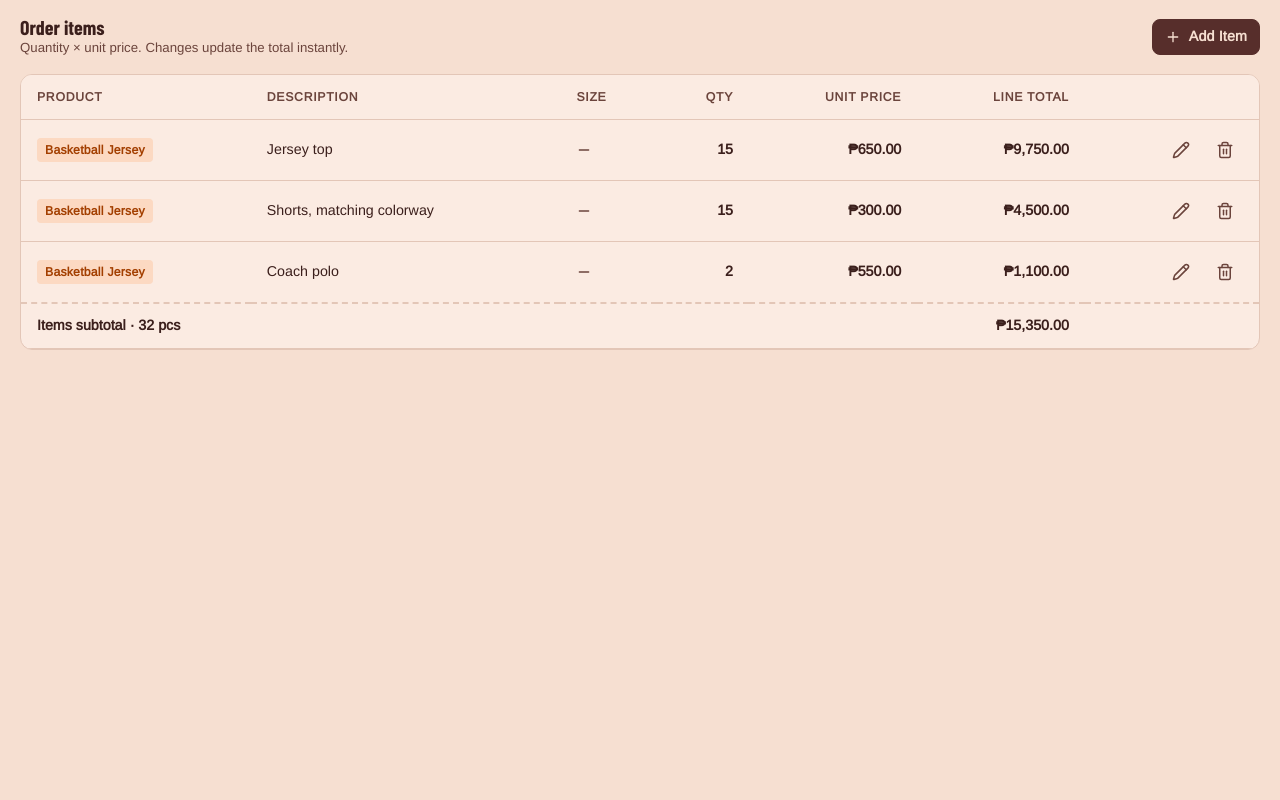
Scenario: Edit Item › puts focus back on the row Edit after Discard Changes too
Click the button named "Edit item 3, Coach polo": (1181, 272) [1163,254,1199,290]
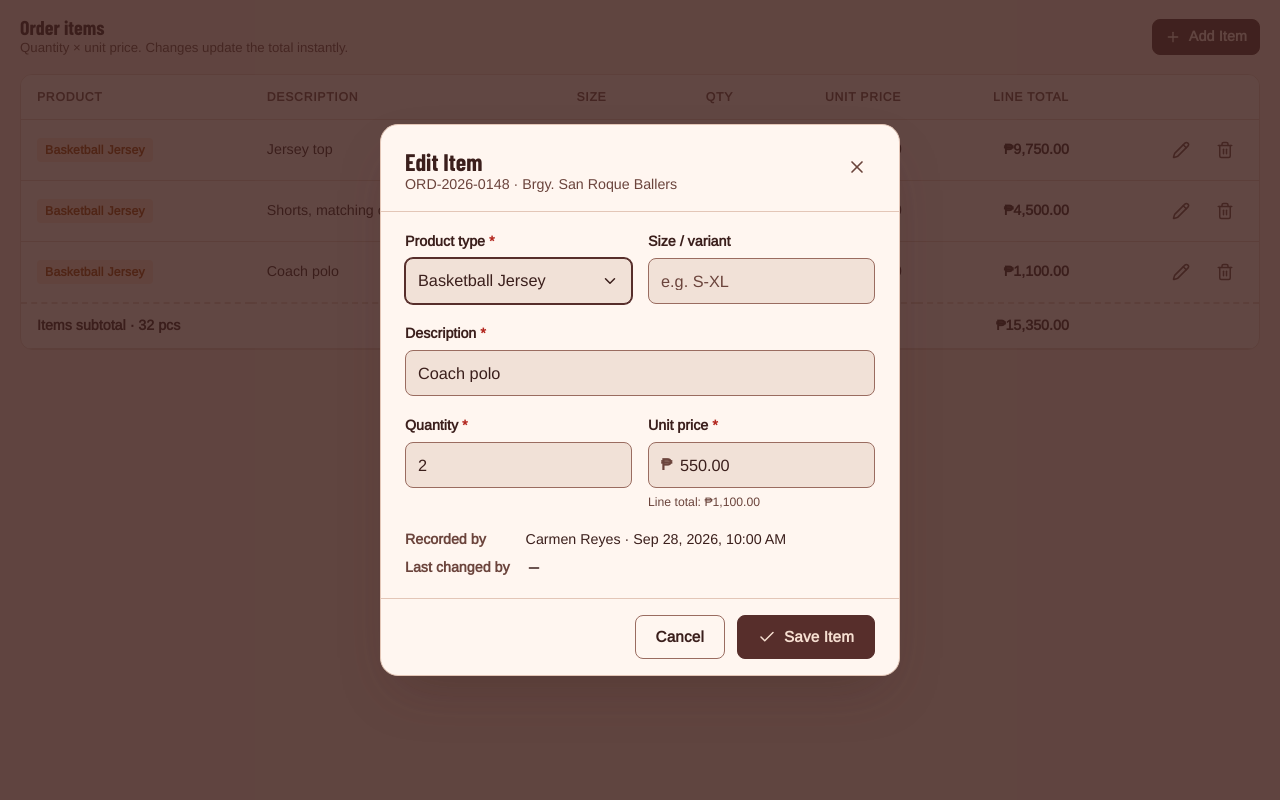
In the field labelled "Description *": (640, 373) [406,351,874,395], type " x"
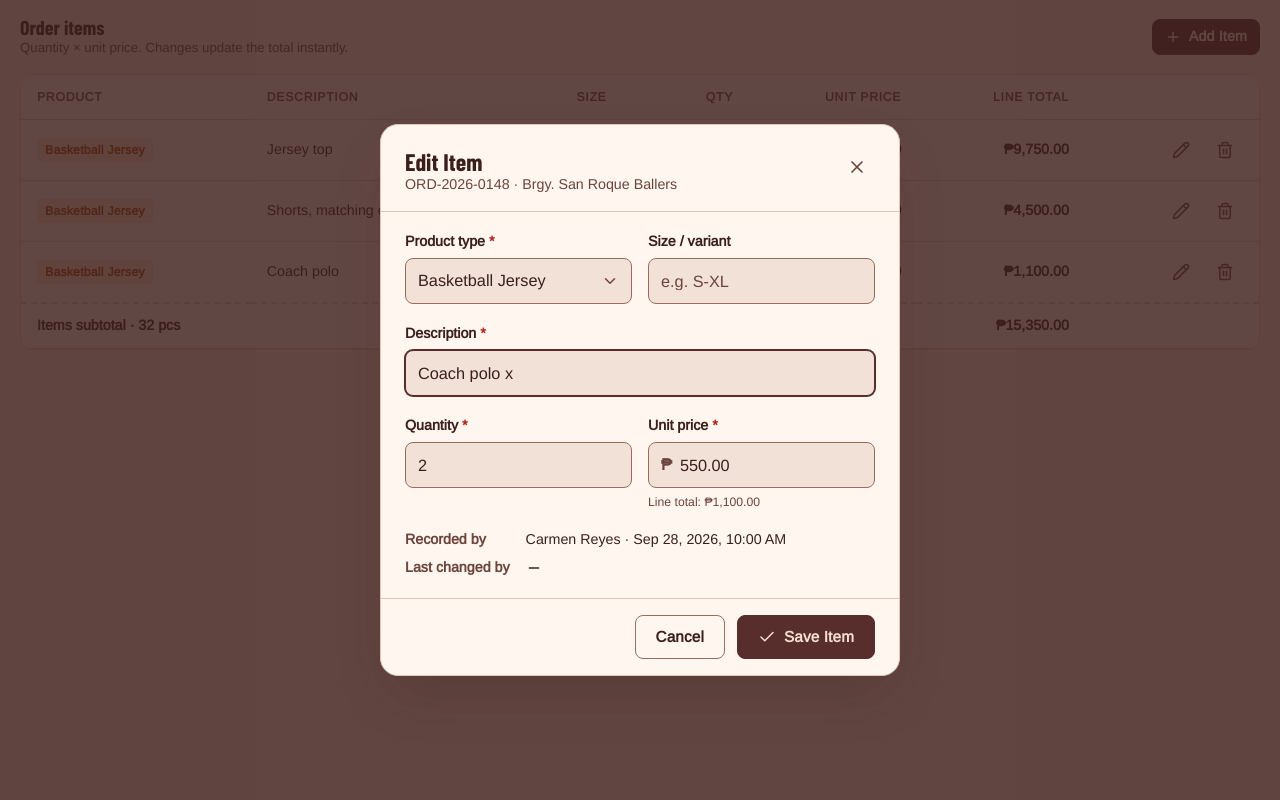
Click the button "Cancel": (680, 637) [634,615,725,659]
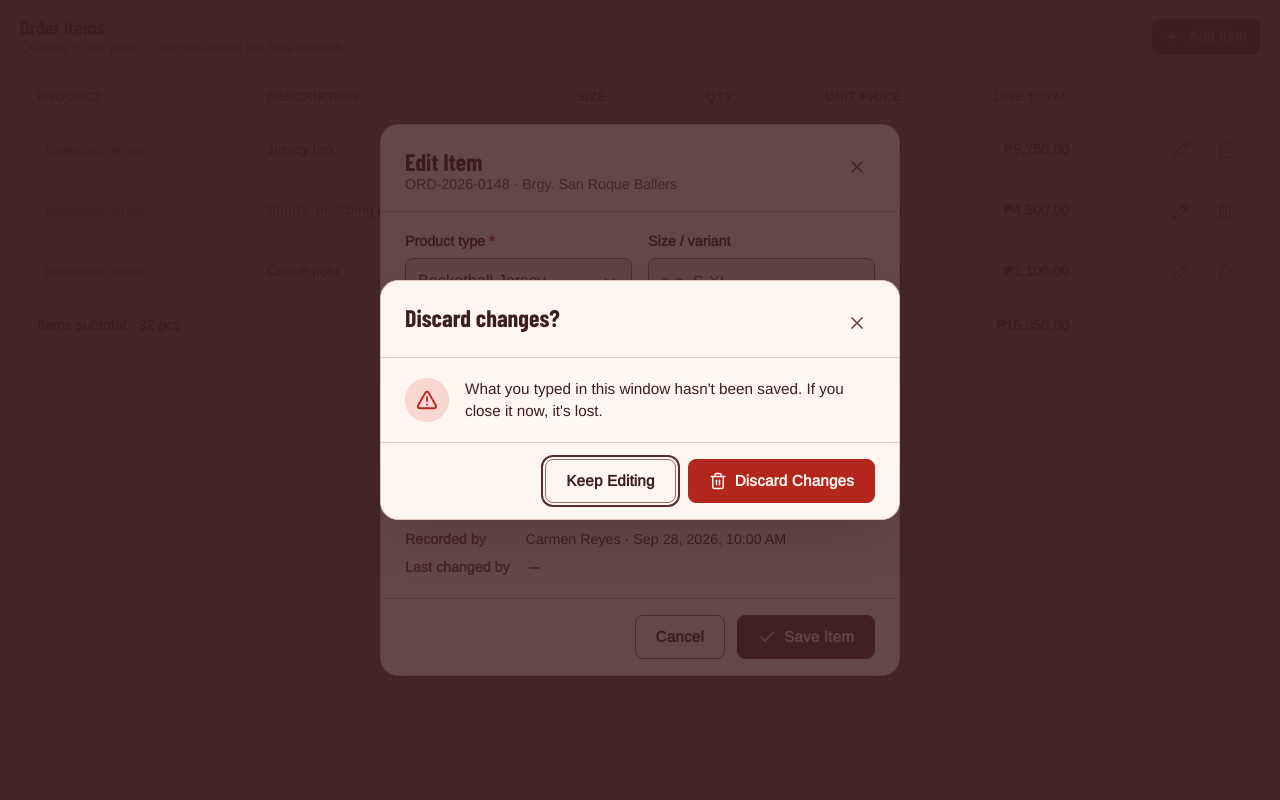
Click the button "Discard Changes": (781, 481) [688,459,875,503]
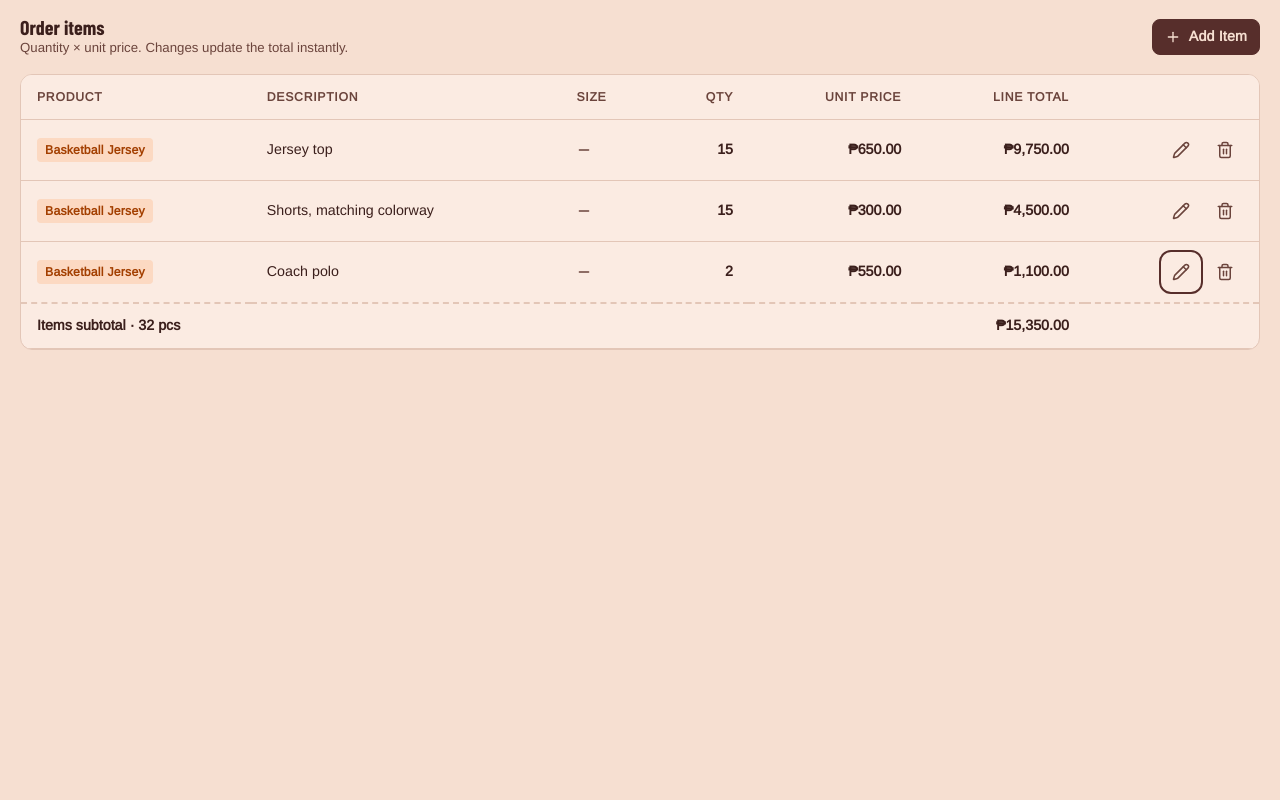
Expected: the dialog is gone
